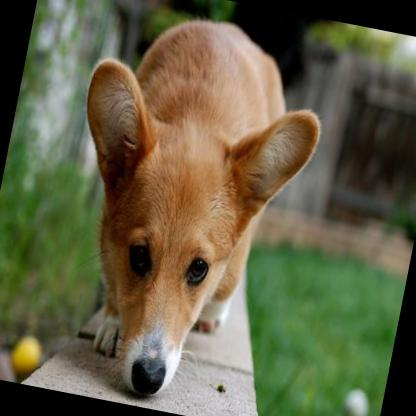Pembroke: (31, 0, 339, 416)
